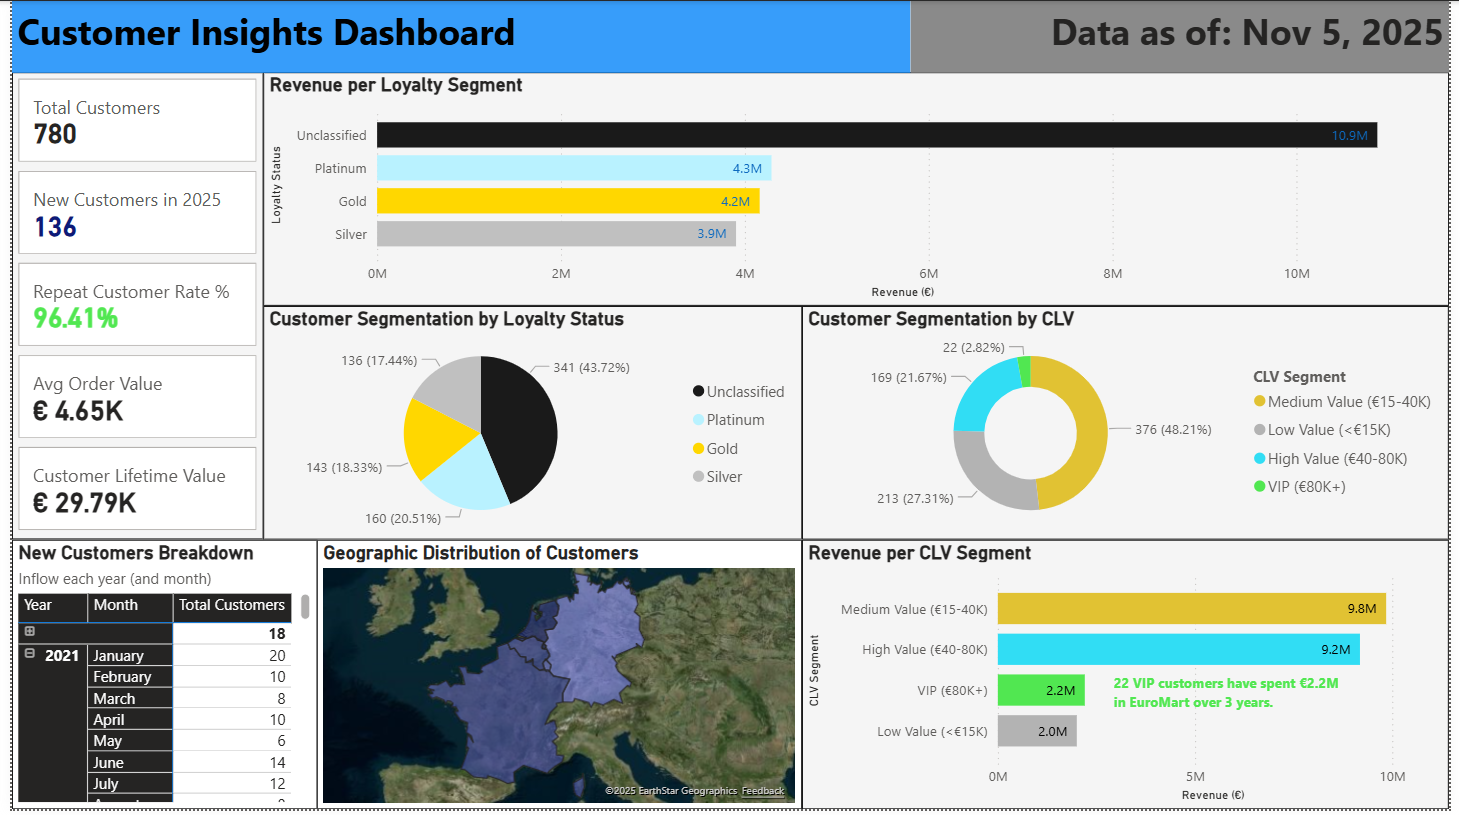

What the dashboard file says about the page in this screenshot:
{"tool":"powerbi","page":{"name":"Customer Insights","canvas":[1280,720],"ordinal":3},"visuals":[{"type":"pieChart","title":"Customer Segmentation by Loyalty Status","fields":{"Y":["fact_sales.Total Customers"],"Category":["customers.loyalty_status"]},"box":[224,272,480,208],"z":0},{"type":"clusteredBarChart","title":"Revenue per Loyalty Segment","fields":{"Y":["fact_sales.Total Revenue"],"Category":["customers.loyalty_status"]},"box":[224,64,1056,208],"z":1000},{"type":"azureMap","title":"Geographic Distribution of Customers","fields":{"Category":["customers.country"]},"box":[272,480,432,240],"z":2000},{"type":"pivotTable","title":"New Customers Breakdown","fields":{"Rows":["customers.signup_date.Variation.Date Hierarchy.Year","customers.signup_date.Variation.Date Hierarchy.Month"],"Values":["fact_sales.Total Customers"]},"box":[0,480,272,240],"z":3000},{"type":"donutChart","title":"Customer Segmentation by CLV","fields":{"Y":["CountNonNull(Customer Segments.customer_id)"],"Category":["Customer Segments.Value Segment"]},"box":[704,272,576,208],"z":4000},{"type":"clusteredBarChart","title":"Revenue per Loyalty Segment","fields":{"Y":["Sum(Customer Segments.Total Revenue)"],"Category":["Customer Segments.Value Segment"]},"box":[704,480,576,240],"z":5000},{"type":"cardVisual","fields":{"Data":["fact_sales.Total Customers","Customer Segments.New Customers This Year","fact_sales.Repeat Customer Rate %","fact_sales.Avg Order Value","Customer Segments.Customer Lifetime Value"]},"box":[0,64,224,416],"z":6000},{"type":"textbox","box":[0,0,800,64],"z":7000},{"type":"textbox","box":[800,0,480,64],"z":8000},{"type":"textbox","box":[976,592,224,48],"z":9000}]}

Visuals, with their boxes in screenshot pixels (x1, y1, x2, y2), scaled from the page's 1280x720 canvas onto the 1459x815 screenshot:
"Customer Segmentation by Loyalty Status" pieChart: left=255, top=308, right=802, bottom=543
"Revenue per Loyalty Segment" clusteredBarChart: left=255, top=72, right=1458, bottom=308
"Geographic Distribution of Customers" azureMap: left=310, top=543, right=802, bottom=814
"New Customers Breakdown" pivotTable: left=0, top=543, right=310, bottom=814
"Customer Segmentation by CLV" donutChart: left=802, top=308, right=1458, bottom=543
"Revenue per Loyalty Segment" clusteredBarChart: left=802, top=543, right=1458, bottom=814
cardVisual - fact_sales.Total Customers x Customer Segments.New Customers This Year: left=0, top=72, right=255, bottom=543
textbox: left=0, top=0, right=912, bottom=72
textbox: left=912, top=0, right=1458, bottom=72
textbox: left=1112, top=670, right=1368, bottom=724
